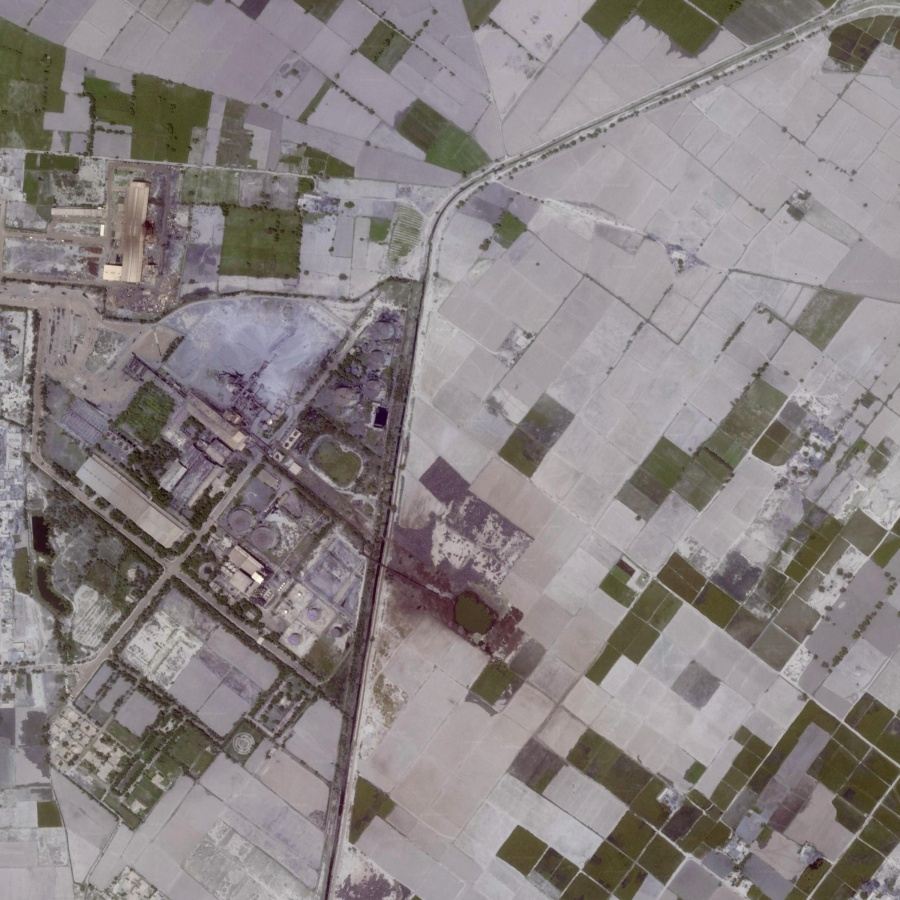PowerPlant: (174, 436, 364, 654)
